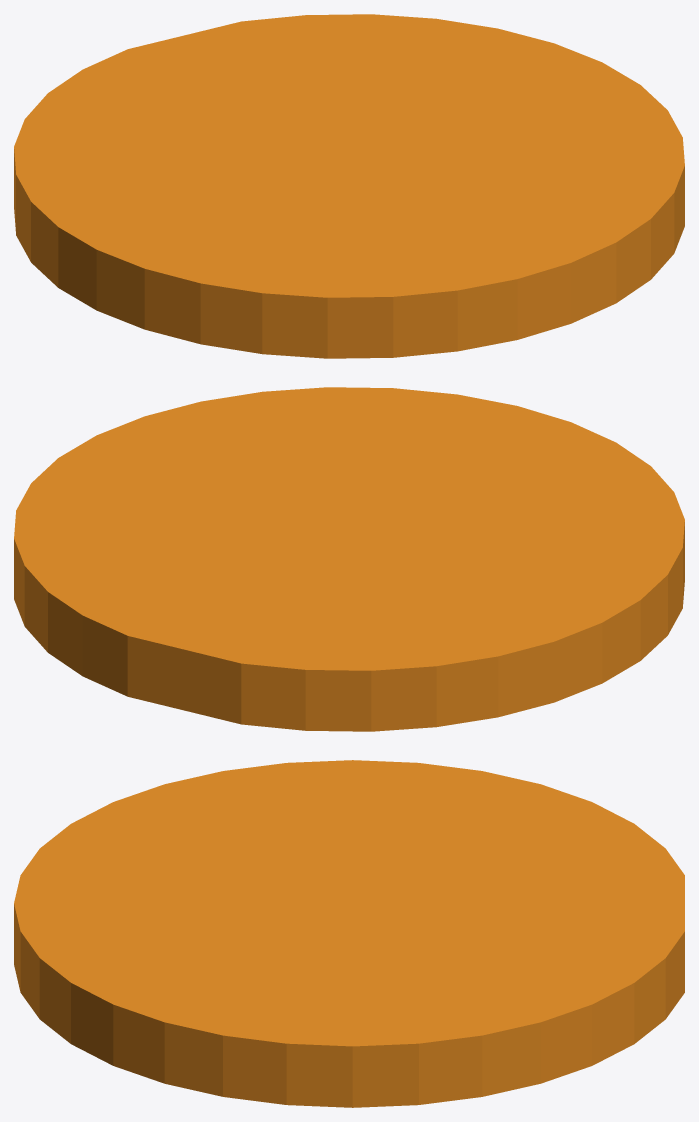
The model's file is wrs_fcsc_bitcoin.dae.
3 renders of one model, top to bottom at view 1: azimuth 30°, elevation 25°; view 2: azimuth 150°, elevation 25°; view 3: azimuth 270°, elevation 25°, orthographic.
Visible parts, largest first — view 1: Cube; view 2: Cube; view 3: Cube.
Boxes of the visible parts, <box> form: Cube: <box>14,14,684,358</box>; Cube: <box>14,387,684,731</box>; Cube: <box>14,760,684,1107</box>.
Bounding box in the file's own units: 0.2 × 0.1981 × 0.02.
Materials: 1 (1 with a texture image).
